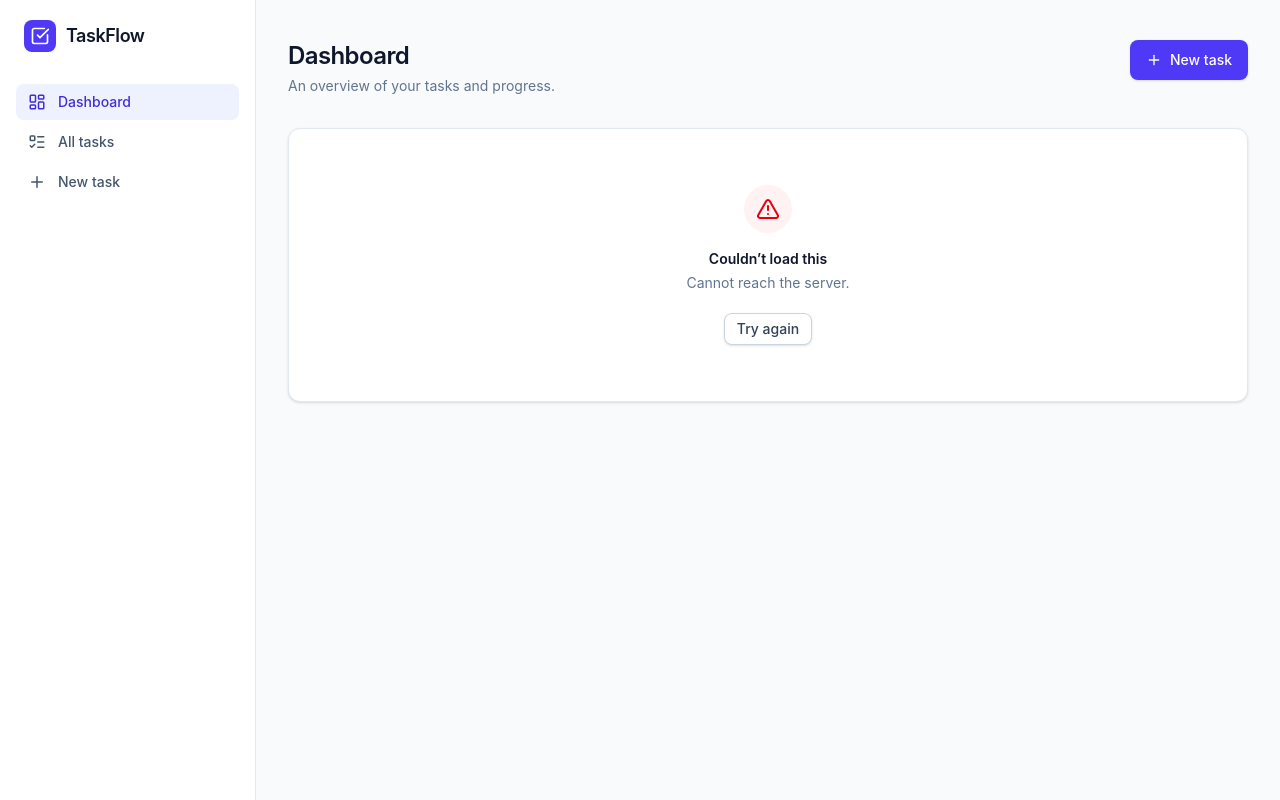
Test: Dashboard › shows an error with a retry button
The image size is (1280, 800).
Expected: the text "Cannot reach the server." is shown, [686,273,850,293]
Click the button "Try again". click: (768, 329)
box: [724,313,812,345]
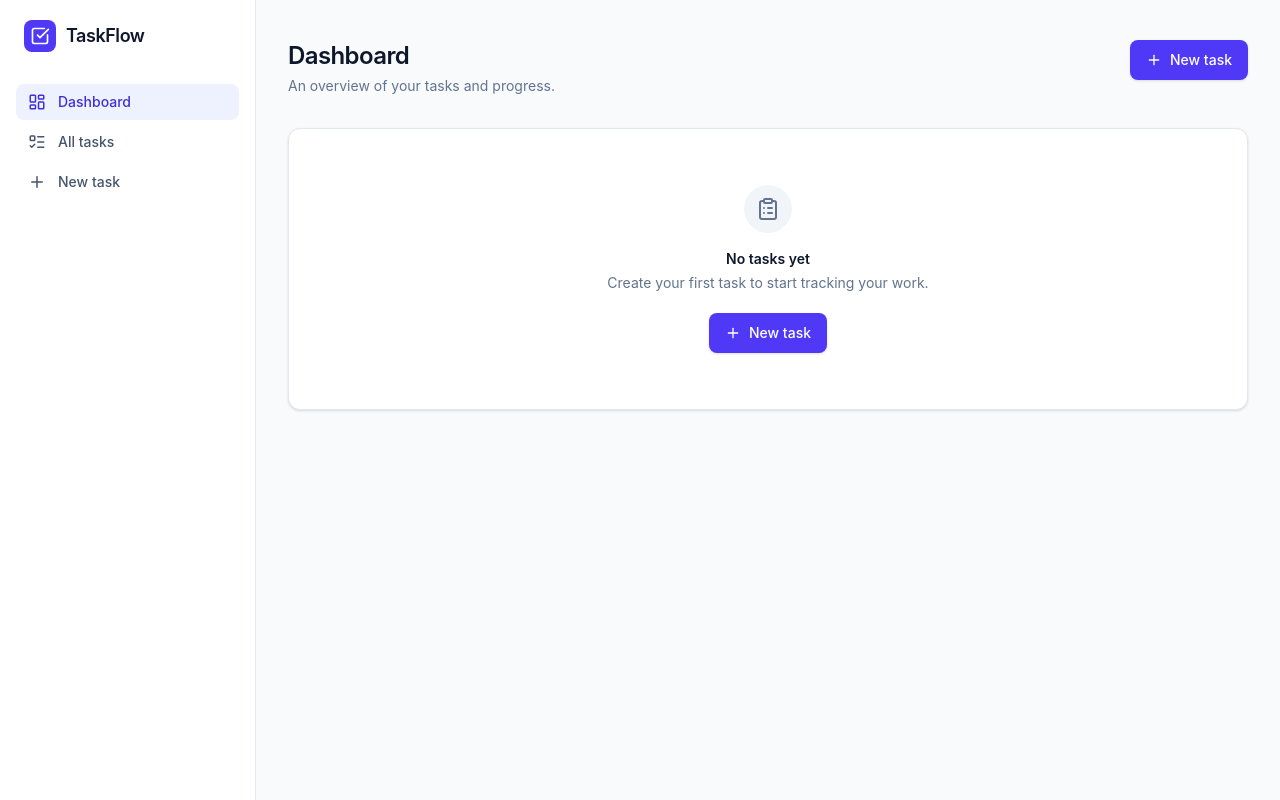
Expected: the heading "No tasks yet" is shown, [726,249,810,269]
